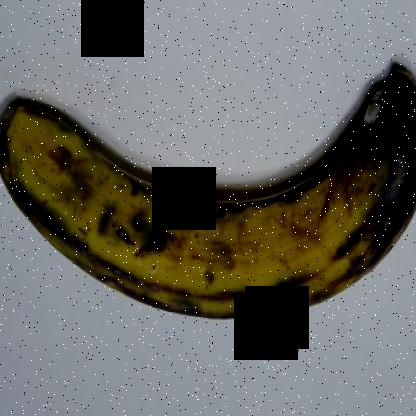overripe: (1, 42, 415, 341)
